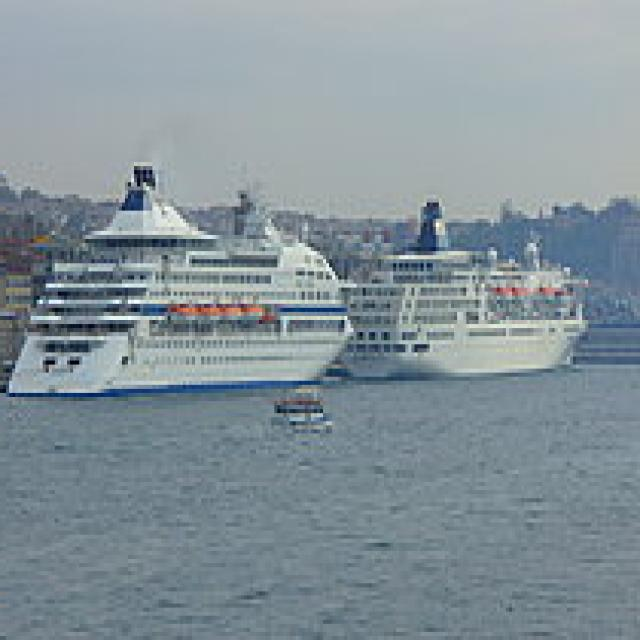Cruise: (6, 174, 360, 397), (344, 190, 594, 377)
